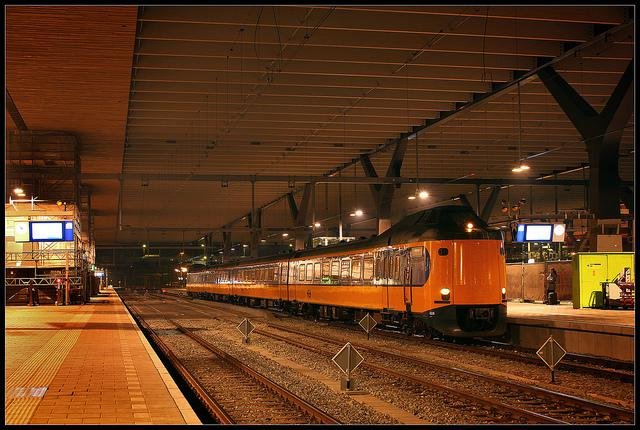Train: (184, 204, 512, 340)
